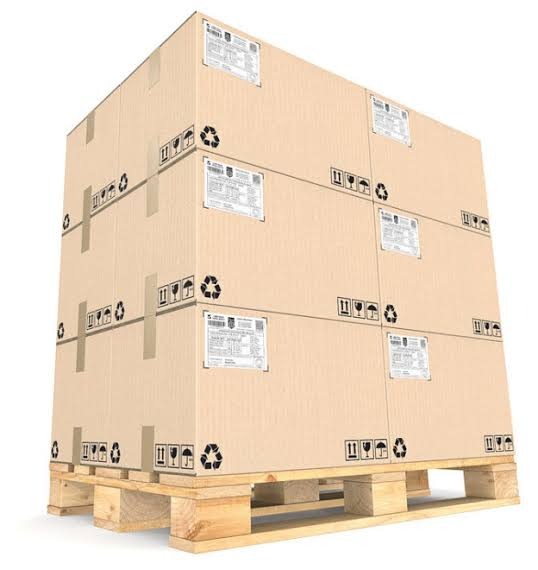box: (193, 305, 388, 477), (197, 13, 374, 201), (196, 150, 382, 323), (371, 201, 504, 343), (366, 90, 492, 234), (382, 326, 513, 462), (111, 10, 196, 196), (110, 151, 198, 326), (110, 300, 194, 474), (50, 82, 120, 236), (48, 322, 111, 470), (56, 198, 113, 340)
box_label: (199, 304, 272, 374), (200, 158, 274, 223), (200, 19, 263, 85), (376, 202, 423, 259), (385, 330, 433, 383), (368, 95, 416, 146)
pallet: (43, 452, 523, 557)
